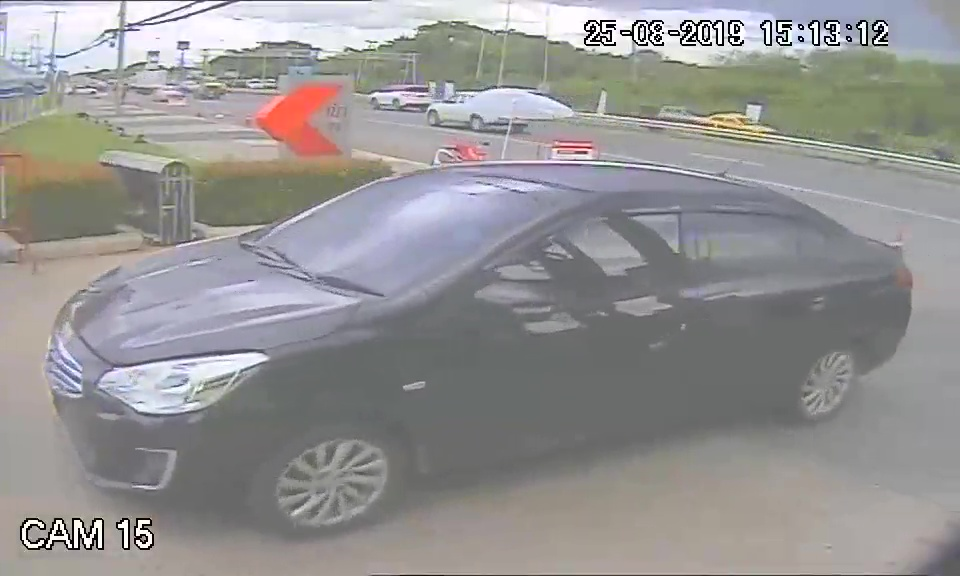sedan: (40, 156, 660, 521)
